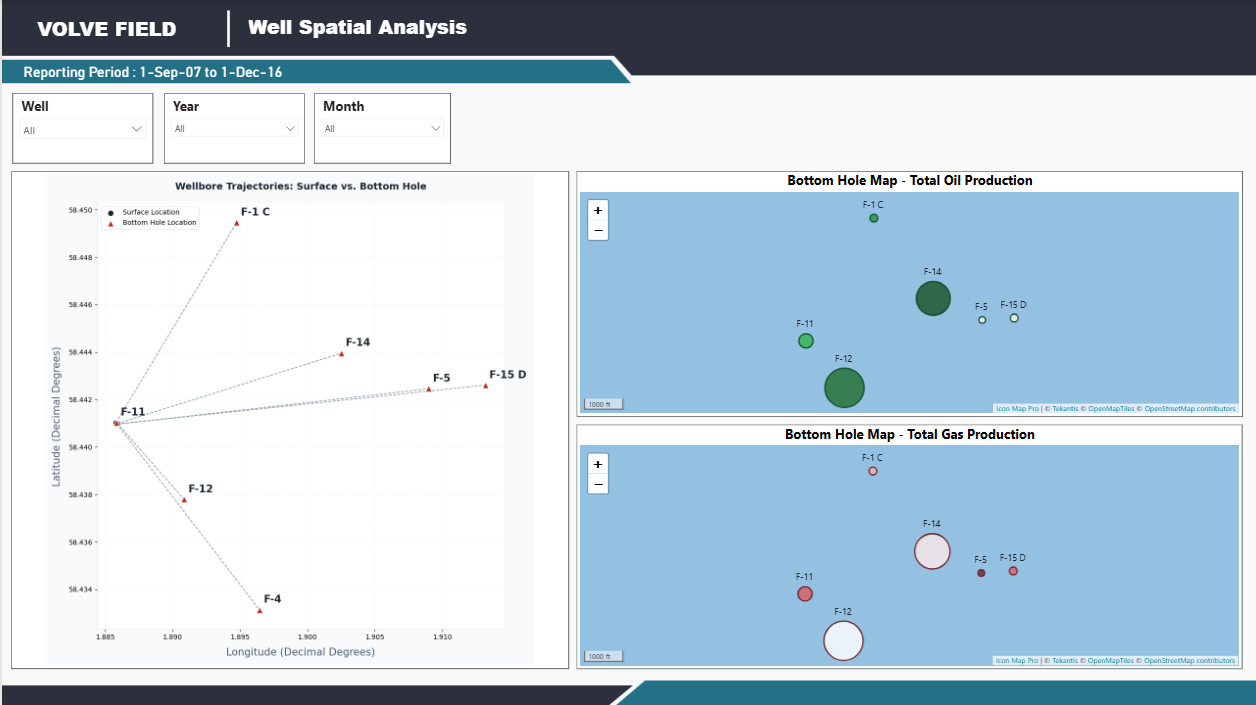

This screenshot's page, from the dashboard's own definition file:
{"tool":"powerbi","page":{"name":"Well Spatial Analysis","canvas":[1920,1080],"ordinal":2},"visuals":[{"type":"textbox","title":"Well Spatial Analysis","box":[372.3,20.7,1054.7,46],"z":0},{"type":"shape","title":"Vertical","box":[321.9,15,50.5,56],"z":1000},{"type":"group","id":"g1","title":"Filter","box":[0,0,1920.6,1080],"z":2000},{"type":"pythonVisual","title":"Plotting Surface vs Bottom Hole Coordinates","fields":{"Values":["Coordinates.Bottom Hole Latitude","Coordinates.Bottom Hole Longitude","Coordinates.Surface Latitude","Coordinates.Surface Longitude","Coordinates.WELLBORE NAME"]},"box":[13.8,262,854.8,762.9],"z":3000},{"type":"textbox","title":"VOLVE FIELD","box":[11.5,23,298.7,39.1],"z":4000},{"type":"cardVisual","fields":{"Data":["Daily Production Data.Reporting Period"]},"box":[16.1,71.2,478,71.2],"z":5000},{"type":"slicer","fields":{"Values":["Daily Production Data.WELLBORE NAME"]},"box":[16.1,142.5,215,108],"z":6000},{"type":"slicer","fields":{"Values":["Date.Year"]},"box":[248.2,142.5,216,108],"z":7000},{"type":"slicer","fields":{"Values":["Date.Month"]},"box":[478,142.5,209.1,108],"z":8000},{"type":"iconMapProE938B1CED4834168A55864E1F8E7242E","title":"Bottom Hole Map - Total Oil Production","fields":{"category":["Coordinates.WELLBORE NAME"],"Longitude":["Avg(Coordinates.Bottom Hole Longitude)"],"Latitude":["Avg(Coordinates.Bottom Hole Latitude)"],"Size":["Sum(Production.BORE_OIL_VOL)"],"tooltip":["Min(Production.WELLBORE NAME)","Sum(Production.BORE_OIL_VOL)","Production.Average of Water Cut","Production.Average Oil to Water Ratio"]},"box":[879.4,262.6,1020.6,376.5],"z":9000},{"type":"iconMapProE938B1CED4834168A55864E1F8E7242E","title":"Bottom Hole Map - Total Gas Production","fields":{"category":["Coordinates.WELLBORE NAME"],"Longitude":["Avg(Coordinates.Bottom Hole Longitude)"],"Latitude":["Avg(Coordinates.Bottom Hole Latitude)"],"tooltip":["Min(Production.WELLBORE NAME)","Sum(Production.BORE_GAS_VOL)","Production.Average of Gas Cut"],"Size":["Sum(Production.BORE_GAS_VOL)"]},"box":[880.1,650.3,1020.3,374.6],"z":10000}]}

Visuals, with their boxes in screenshot pixels (x1, y1, x2, y2), scaled from the page's 1920x1080 canvas onto the 1256x705 screenshot:
"Well Spatial Analysis" textbox: [x1=244, y1=14, x2=933, y2=44]
"Vertical" shape: [x1=211, y1=10, x2=244, y2=46]
"Filter" group: [x1=0, y1=0, x2=1255, y2=704]
"Plotting Surface vs Bottom Hole Coordinates" pythonVisual: [x1=9, y1=171, x2=568, y2=669]
"VOLVE FIELD" textbox: [x1=8, y1=15, x2=203, y2=41]
cardVisual - Daily Production Data.Reporting Period: [x1=11, y1=46, x2=323, y2=93]
slicer - Daily Production Data.WELLBORE NAME: [x1=11, y1=93, x2=151, y2=164]
slicer - Date.Year: [x1=162, y1=93, x2=304, y2=164]
slicer - Date.Month: [x1=313, y1=93, x2=449, y2=164]
"Bottom Hole Map - Total Oil Production" iconMapProE938B1CED4834168A55864E1F8E7242E: [x1=575, y1=171, x2=1243, y2=417]
"Bottom Hole Map - Total Gas Production" iconMapProE938B1CED4834168A55864E1F8E7242E: [x1=576, y1=425, x2=1243, y2=669]
